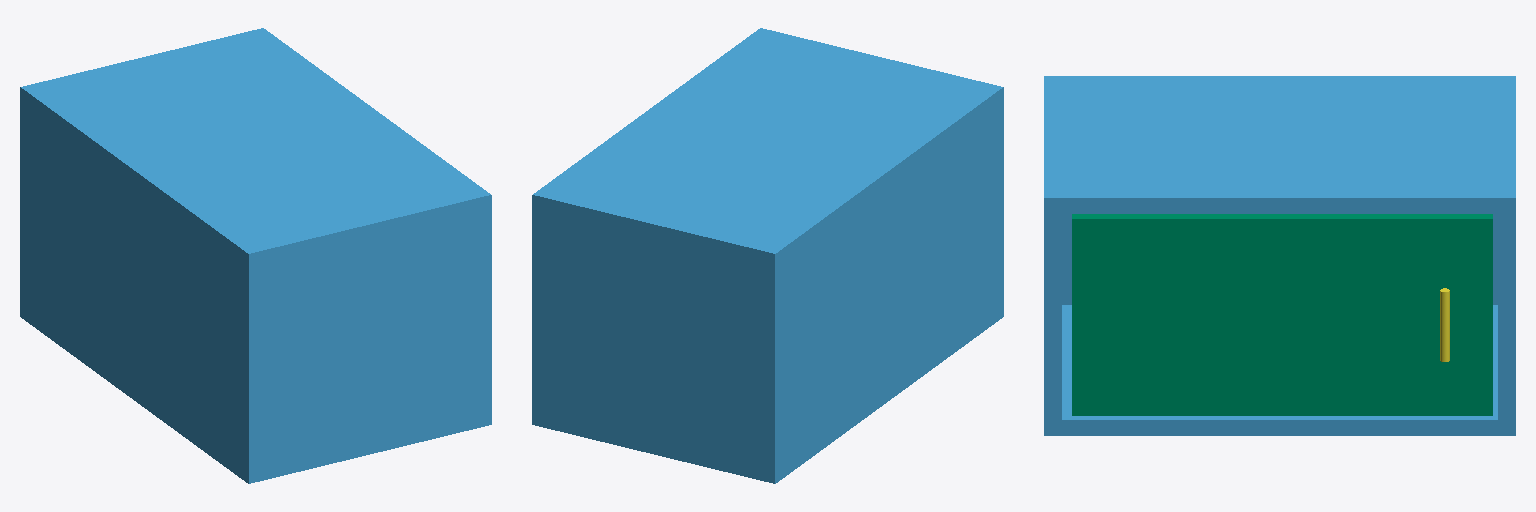
The robot description file, URDF, robot "my_cabinet":
<?xml version="1.0" ?>
<robot name="my_cabinet">
	<link name="world"/>
	<joint name="virtual_joint" type="fixed">
		<parent link="world"/>
		<child link="base_cabinet_link"/>
		<origin xyz="0.0 0.0 0.0" rpy="0.0 0.0 0.0"/>
	</joint>
	<link name="base_cabinet_link">
		<visual>
			<origin xyz="0.0 -0.0025 -0.12677100581292744" rpy="0.0 0.0 0.0"/>
			<geometry>
				<box size="0.3 0.48787939491241733 0.018"/>
			</geometry>
		</visual>
		<collision name="base_cabinet_link_collision_0">
			<origin xyz="0.0 -0.0025 -0.12677100581292744" rpy="0.0 0.0 0.0"/>
			<geometry>
				<box size="0.3 0.48787939491241733 0.018"/>
			</geometry>
		</collision>
		<visual>
			<origin xyz="0.0 0.23243969745620868 0.0" rpy="0.0 0.0 0.0"/>
			<geometry>
				<box size="0.3 0.018 0.2715420116258549"/>
			</geometry>
		</visual>
		<collision name="base_cabinet_link_collision_1">
			<origin xyz="0.0 0.23243969745620868 0.0" rpy="0.0 0.0 0.0"/>
			<geometry>
				<box size="0.3 0.018 0.2715420116258549"/>
			</geometry>
		</collision>
		<visual>
			<origin xyz="0.0 -0.2374396974562087 0.0" rpy="0.0 0.0 0.0"/>
			<geometry>
				<box size="0.3 0.018 0.2715420116258549"/>
			</geometry>
		</visual>
		<collision name="base_cabinet_link_collision_2">
			<origin xyz="0.0 -0.2374396974562087 0.0" rpy="0.0 0.0 0.0"/>
			<geometry>
				<box size="0.3 0.018 0.2715420116258549"/>
			</geometry>
		</collision>
		<visual>
			<origin xyz="0.0 -0.0025 0.12677100581292744" rpy="0.0 0.0 0.0"/>
			<geometry>
				<box size="0.3 0.48787939491241733 0.018"/>
			</geometry>
		</visual>
		<collision name="base_cabinet_link_collision_3">
			<origin xyz="0.0 -0.0025 0.12677100581292744" rpy="0.0 0.0 0.0"/>
			<geometry>
				<box size="0.3 0.48787939491241733 0.018"/>
			</geometry>
		</collision>
		<visual>
			<origin xyz="-0.141 -0.0025 0.0" rpy="0.0 0.0 0.0"/>
			<geometry>
				<box size="0.018 0.48787939491241733 0.2715420116258549"/>
			</geometry>
		</visual>
		<collision name="base_cabinet_link_collision_4">
			<origin xyz="-0.141 -0.0025 0.0" rpy="0.0 0.0 0.0"/>
			<geometry>
				<box size="0.018 0.48787939491241733 0.2715420116258549"/>
			</geometry>
		</collision>
		<inertial>
			<mass value="0.200000"/>
			<inertia ixx="0.005196" ixy="0.0" ixz="0.0" iyy="0.002729" iyz="0.0" izz="0.005467"/>
		</inertial>
	</link>
	<link name="door_link">
		<visual>
			<origin xyz="0.0 -0.21843969745620867 0.0"/>
			<geometry>
				<box size="0.018 0.43687939491241734 0.22554201162585488"/>
			</geometry>
		</visual>
		<collision name="door_link_collision">
			<origin xyz="0.0 -0.21843969745620867 0.0"/>
			<geometry>
				<box size="0.018 0.43687939491241734 0.22554201162585488"/>
			</geometry>
		</collision>
		<inertial>
			<mass value="0.200000"/>
			<inertia ixx="0.004029" ixy="0.0" ixz="0.0" iyy="0.000853" iyz="0.0" izz="0.003186"/>
		</inertial>
	</link>
	<joint name="door_joint" type="revolute">
		<origin xyz="0.141 -0.21843969745620867 0.0" rpy="0.000000 -0.000000 3.141593"/>
		<axis xyz="0 0 1"/>
		<parent link="base_cabinet_link"/>
		<child link="door_link"/>
		<limit effort="50" lower="-1.658062789394613" upper="0" velocity="10"/>
		<dynamics friction="3.5" damping="3.5"/>
	</joint>
	<link name="handle_link">
		<visual>
			<origin xyz="0.0 0.0 0.0" rpy="0.0 0.0 0.0"/>
			<geometry>
				<cylinder length="0.08" radius="0.005"/>
			</geometry>
		</visual>
		<collision name="handle_link_collision_0">
			<origin xyz="0.0 0.0 0.0" rpy="0.0 0.0 0.0"/>
			<geometry>
				<cylinder length="0.08" radius="0.005"/>
			</geometry>
		</collision>
		<visual>
			<origin xyz="-0.01 0.0 0.02" rpy="0.0 1.5707963267948966 0.0"/>
			<geometry>
				<cylinder length="0.02" radius="0.003"/>
			</geometry>
		</visual>
		<collision name="handle_link_collision_1">
			<origin xyz="-0.01 0.0 0.02" rpy="0.0 1.5707963267948966 0.0"/>
			<geometry>
				<cylinder length="0.01" radius="0.003"/>
			</geometry>
		</collision>
		<visual>
			<origin xyz="-0.01 0.0 -0.02" rpy="0.0 1.5707963267948966 0.0"/>
			<geometry>
				<cylinder length="0.02" radius="0.003"/>
			</geometry>
		</visual>
		<collision name="handle_link_collision_2">
			<origin xyz="-0.01 0.0 -0.02" rpy="0.0 1.5707963267948966 0.0"/>
			<geometry>
				<cylinder length="0.02" radius="0.003"/>
			</geometry>
		</collision>
		<inertial>
			<mass value="0.050000"/>
			<inertia ixx="0.000027" ixy="0.0" ixz="0.0" iyy="0.000029" iyz="0.0" izz="0.000003"/>
		</inertial>
	</link>
	<joint name="handle_joint" type="fixed">
		<origin xyz="-0.028999999999999998 -0.38687939491241735 0.0" rpy="0.000000 -0.000000 3.141593"/>
		<parent link="door_link"/>
		<child link="handle_link"/>
	</joint>
	<gazebo reference="base_cabinet_link">
		<sensor name="main_sensor" type="contact">
			<selfCollide>true</selfCollide>
			<alwaysOn>true</alwaysOn>
			<updateRate>5.0</updateRate>
			<material>Gazebo/Red</material>
			<contact>
				<collision>base_cabinet_link_collision_0_collision</collision>
				<collision>base_cabinet_link_collision_1_collision</collision>
				<collision>base_cabinet_link_collision_2_collision</collision>
				<collision>base_cabinet_link_collision_3_collision</collision>
				<collision>base_cabinet_link_collision_4_collision</collision>
			</contact>
			<plugin name="gazebo_ros_bumper_controller" filename="libgazebo_ros_bumper.so">
				<bumperTopicName>/contact</bumperTopicName>
				<frameName>world</frameName>
			</plugin>
		</sensor>
	</gazebo>
	<gazebo reference="door_link">
		<sensor name="main_sensor" type="contact">
			<selfCollide>true</selfCollide>
			<alwaysOn>true</alwaysOn>
			<updateRate>5.0</updateRate>
			<material>Gazebo/Red</material>
			<contact>
				<collision>door_link_collision_collision</collision>
			</contact>
			<plugin name="gazebo_ros_bumper_controller" filename="libgazebo_ros_bumper.so">
				<bumperTopicName>/contact_door</bumperTopicName>
				<frameName>contact_door</frameName>
			</plugin>
		</sensor>
	</gazebo>
	<gazebo reference="door_link">
		<mu>3.0</mu>
		<mu2>3.0</mu2>
		<kp>10000000</kp>
		<kd>100</kd>
	</gazebo>
</robot>

--- Render facts (derived) ---
3 views of the same robot in one strip: view 1: azimuth 30°, elevation 25°; view 2: azimuth 150°, elevation 25°; view 3: azimuth 270°, elevation 25° (orthographic).
Robot: my_cabinet — 4 links, 3 joints (1 revolute, 2 fixed); root link world; default pose: every joint at zero.
Links seen in each view (by area): view 1: base_cabinet_link; view 2: base_cabinet_link; view 3: base_cabinet_link, door_link, handle_link.
Boxes of the visible links, x1=… form: base_cabinet_link: x1=20, y1=28, x2=491, y2=483; base_cabinet_link: x1=532, y1=28, x2=1003, y2=483; base_cabinet_link: x1=1044, y1=76, x2=1515, y2=435; door_link: x1=1072, y1=214, x2=1492, y2=415; handle_link: x1=1440, y1=288, x2=1449, y2=361.
Bounding box of the posed robot: 0.325 × 0.4879 × 0.2715 m (x, y, z).
Geometry: primitives only (box / cylinder / sphere), no mesh files.
